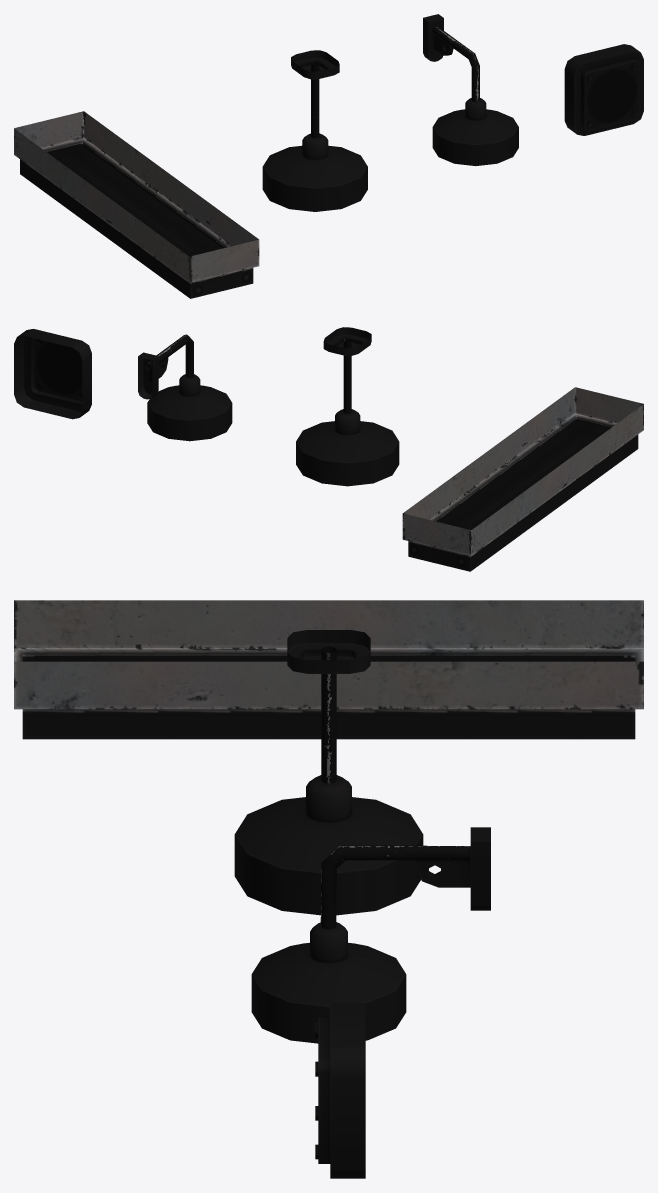
Rendered from lightsbroken.fbx.
The picture shows the model from 3 angles, top to bottom: view 1: azimuth 30°, elevation 25°; view 2: azimuth 150°, elevation 25°; view 3: azimuth 270°, elevation 25°; orthographic projection. The views are drawn at different scales.
Visible parts, largest first — view 1: TLlight, lightceiling1, lightwall2, lightwall1; view 2: TLlight, lightceiling1, lightwall2, lightwall1; view 3: TLlight, lightceiling1, lightwall1, lightwall2.
Part boxes in pixels (x1,y1,x2,y2): TLlight: [14, 111, 259, 298]; lightceiling1: [262, 50, 367, 211]; lightwall2: [564, 44, 643, 135]; lightwall1: [423, 14, 518, 166]; TLlight: [402, 387, 643, 571]; lightceiling1: [296, 327, 399, 486]; lightwall2: [14, 329, 91, 419]; lightwall1: [138, 334, 232, 441]; TLlight: [14, 600, 643, 739]; lightceiling1: [234, 630, 423, 915]; lightwall1: [251, 827, 490, 1043]; lightwall2: [315, 1003, 365, 1178].
Size of the model in its own units: 254 by 63.22 by 142.
